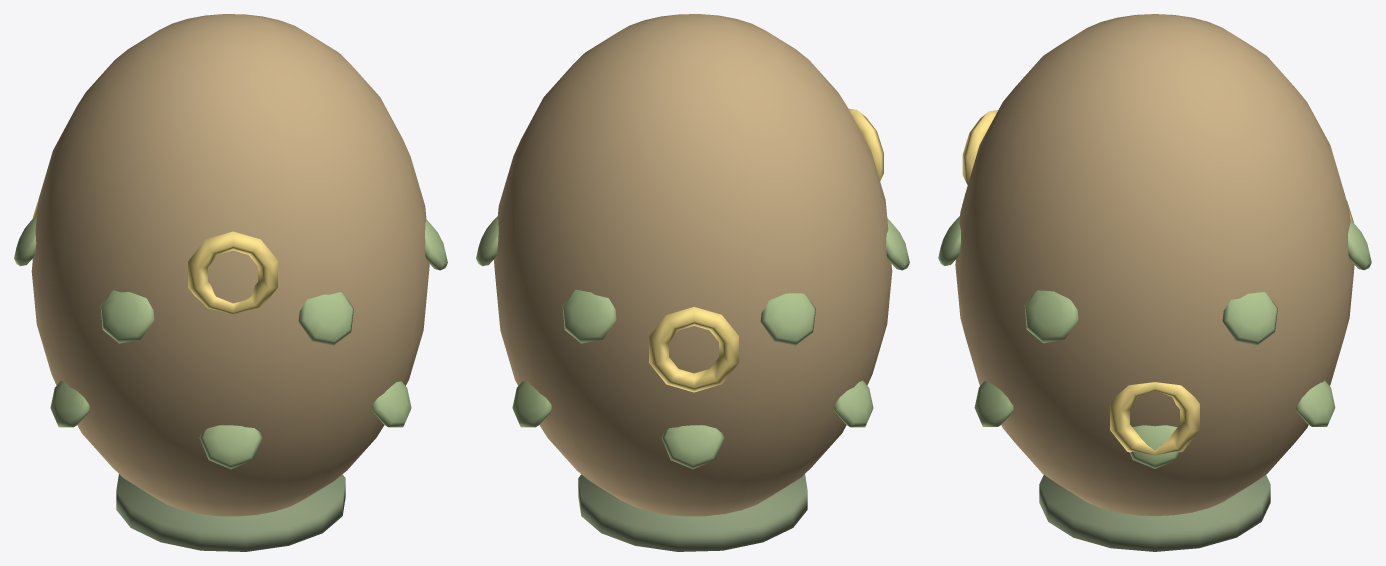
Rendered from egg_prehistoric_02.glb.
3 views of the same model, side by side, from view 1: azimuth 30°, elevation 25°; view 2: azimuth 150°, elevation 25°; view 3: azimuth 270°, elevation 25° (orthographic).
Visible parts, largest first — view 1: ball; view 2: ball; view 3: ball.
Boxes of the visible parts, x1,y1,x2,y2 form: ball: (14,14,447,551); ball: (476,14,909,551); ball: (938,14,1371,551).
Size of the model in its own units: 0.7658 by 1 by 0.8252.
